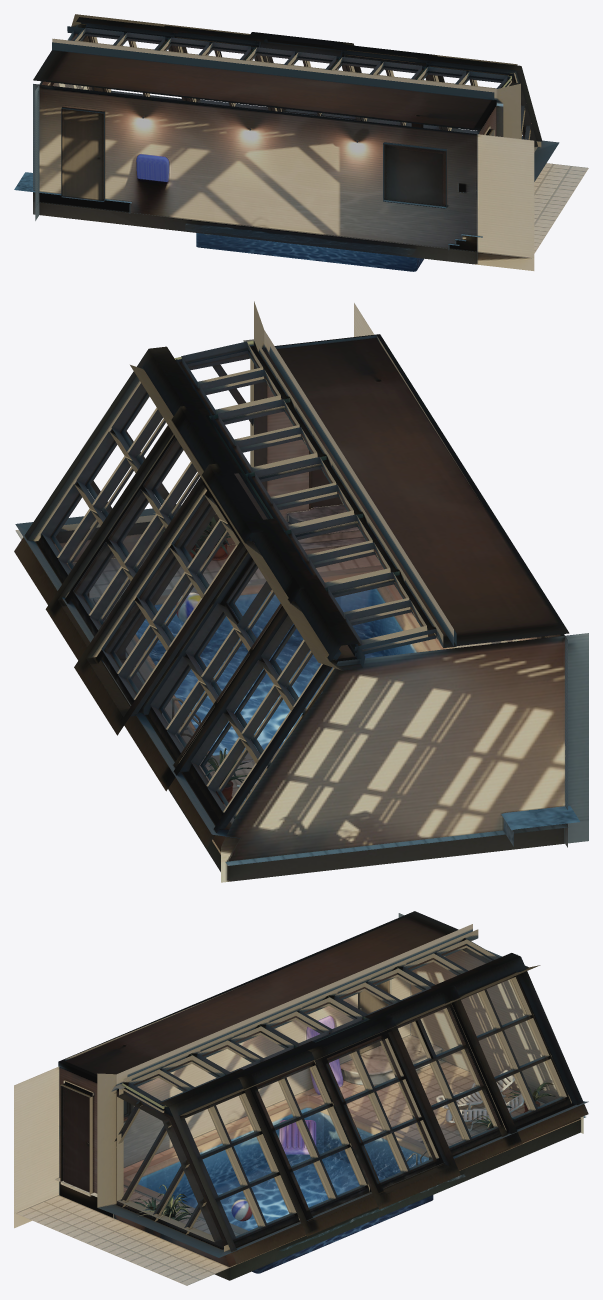
The model's file is pool_in_the_mountains_baked.glb.
3 views of the same model, one above another, from view 1: azimuth 30°, elevation 25°; view 2: azimuth 150°, elevation 25°; view 3: azimuth 270°, elevation 25° (orthographic). The views are drawn at different scales.
Parts seen in each view (by area): view 1: pool.001_1; view 2: pool.001_1, water_0; view 3: pool.001_1, water_0.
Boxes of the visible parts, x1,y1,x2,y2 form: pool.001_1: [14, 14, 588, 271]; pool.001_1: [14, 301, 588, 882]; water_0: [136, 593, 413, 753]; pool.001_1: [14, 911, 588, 1285]; water_0: [142, 1116, 464, 1248].
Size of what is drawn, in the model's own units: 13.11 by 4.81 by 12.83.
2 materials, 2 textured.
